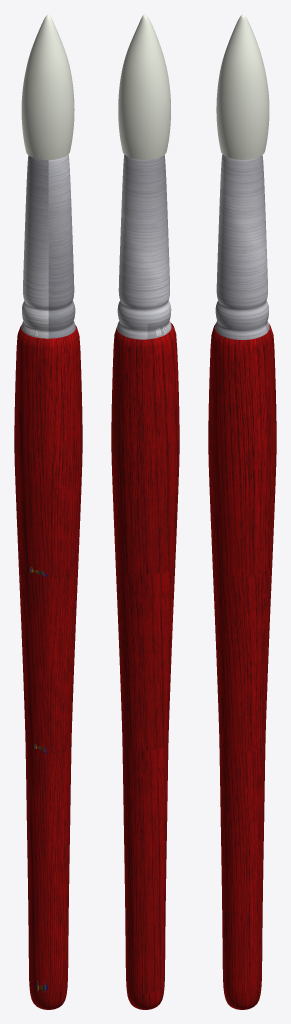
Rendered from paintbrush.gltf.
3 views of the same model, side by side, from view 1: azimuth 90°, elevation 25°; view 2: azimuth 210°, elevation 25°; view 3: azimuth 270°, elevation 25° (orthographic).
Parts seen in each view (by area): view 1: Plane, Plane.001, brush; view 2: Plane, Plane.001, brush; view 3: Plane, Plane.001, brush.
Part boxes in pixels (x1,y1,x2,y2): Plane: [14, 325, 82, 1009]; Plane.001: [21, 154, 75, 338]; brush: [21, 14, 74, 159]; Plane: [111, 322, 179, 1009]; Plane.001: [117, 154, 171, 339]; brush: [118, 14, 170, 159]; Plane: [208, 323, 276, 1009]; Plane.001: [215, 154, 269, 339]; brush: [216, 14, 269, 159].
Size of the model in its own units: 0.1883 by 3.02 by 0.188.
Materials: 3 (2 with a texture image).
